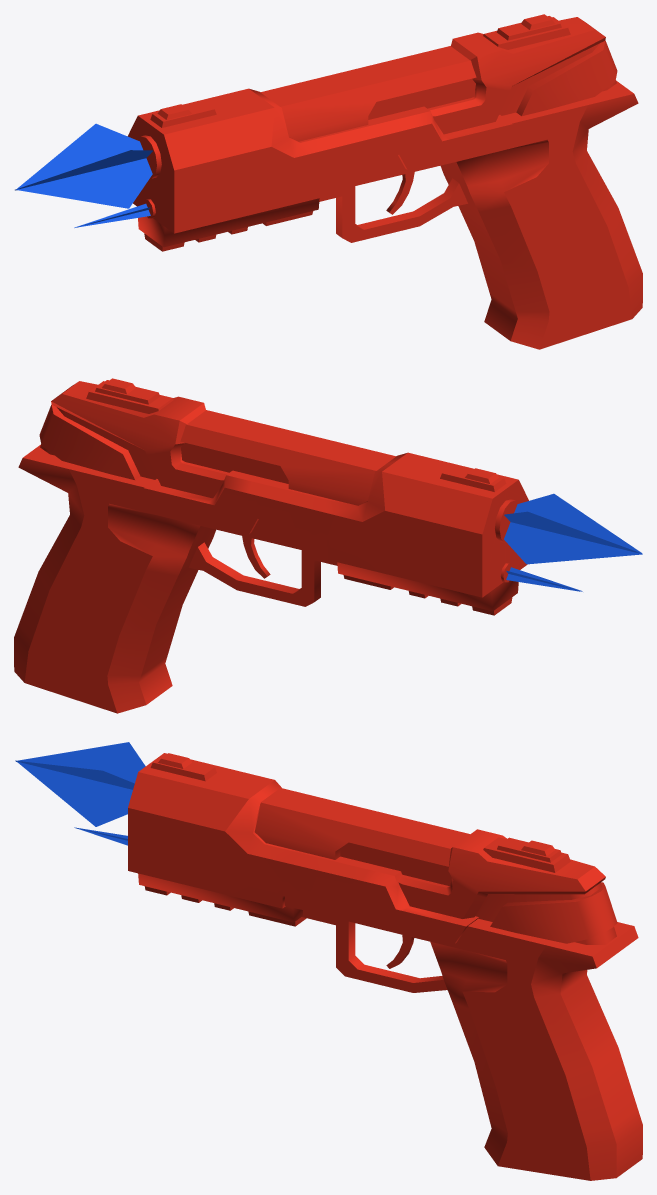
The model's file is gun1.fbx.
The picture shows the model from 3 angles, top to bottom: view 1: azimuth 30°, elevation 25°; view 2: azimuth 150°, elevation 25°; view 3: azimuth 330°, elevation 25°; orthographic projection.
Parts seen in each view (by area): view 1: body, light_1, light_2; view 2: body, light_1, light_2; view 3: body, light_1.
Part boxes in pixels (x1=…): body: x1=127, y1=14, x2=642, y2=349; light_1: x1=15, y1=123, x2=152, y2=208; light_2: x1=74, y1=203, x2=150, y2=227; body: x1=14, y1=378, x2=528, y2=713; light_1: x1=504, y1=493, x2=642, y2=564; light_2: x1=506, y1=567, x2=582, y2=591; body: x1=128, y1=753, x2=642, y2=1180; light_1: x1=15, y1=742, x2=145, y2=826.
Size of the model in its own units: 29.26 by 14.21 by 3.84.
